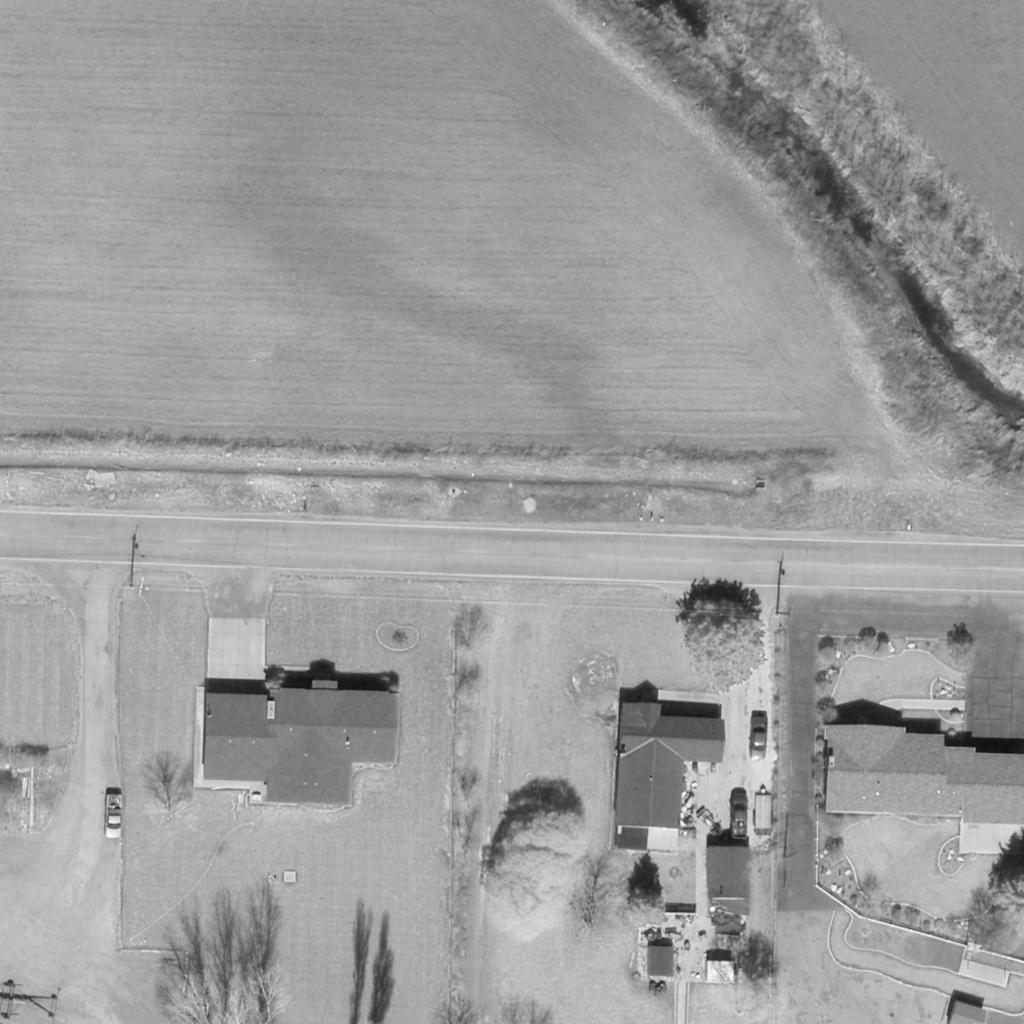vehicle: (103, 793, 125, 839), (730, 789, 748, 843), (750, 716, 768, 760)
